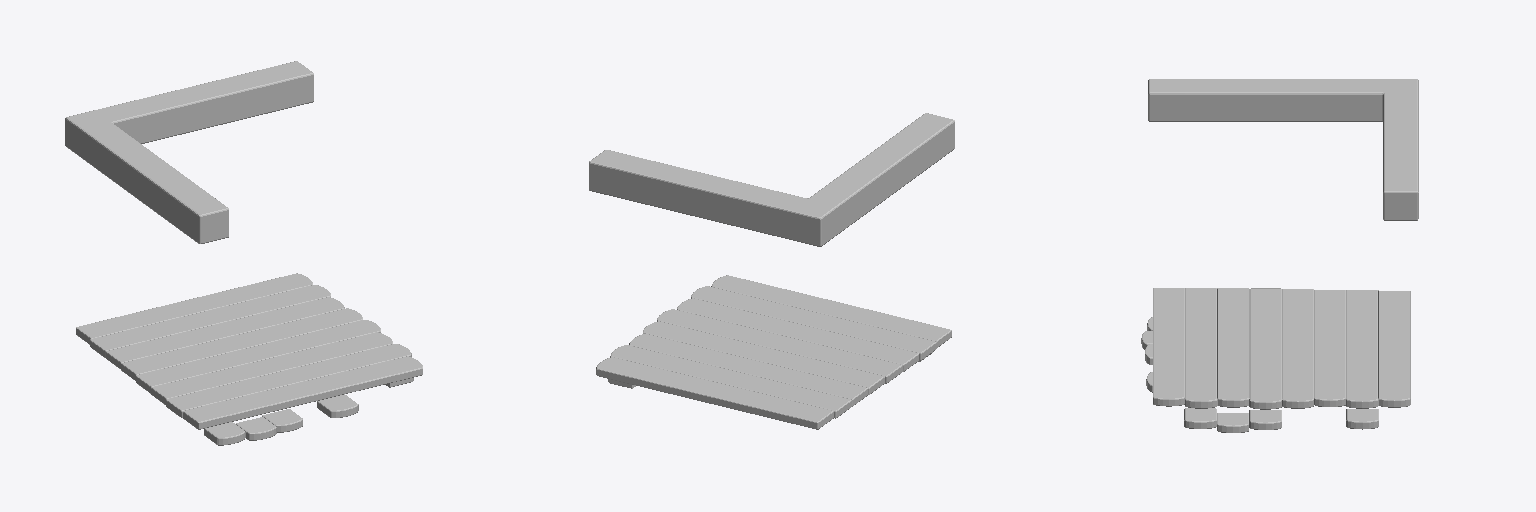
File: DarkerWoodTexture.obj
3 renders of one model, left to right at view 1: azimuth 30°, elevation 25°; view 2: azimuth 150°, elevation 25°; view 3: azimuth 270°, elevation 25°, orthographic.
Parts seen in each view (by area): view 1: Room TopWallTrim, Room UpperFloorPlanks FloorPlank8, Room UpperFloorPlanks FloorPlank7, Room UpperFloorPlanks FloorPlank5, Room UpperFloorPlanks FloorPlank4, Room UpperFloorPlanks FloorPlank6, Room FloorPlank2 UpperFloorPlanks, Room UpperFloorPlanks FloorPlank3, Room UpperFloorPlanks FloorPlank1, LowerFloorPlanks Room FloorPlank13, LowerFloorPlanks Room FloorPlank16, LowerFloorPlanks Room FloorPlank15 (+1 smaller); view 2: Room TopWallTrim, Room UpperFloorPlanks FloorPlank1, Room UpperFloorPlanks FloorPlank5, Room UpperFloorPlanks FloorPlank7, Room UpperFloorPlanks FloorPlank4, Room FloorPlank2 UpperFloorPlanks, Room UpperFloorPlanks FloorPlank6, Room UpperFloorPlanks FloorPlank8, Room UpperFloorPlanks FloorPlank3; view 3: Room TopWallTrim, Room UpperFloorPlanks FloorPlank6, Room UpperFloorPlanks FloorPlank5, Room UpperFloorPlanks FloorPlank7, Room UpperFloorPlanks FloorPlank1, Room UpperFloorPlanks FloorPlank4, Room FloorPlank2 UpperFloorPlanks, Room UpperFloorPlanks FloorPlank8, Room UpperFloorPlanks FloorPlank3, LowerFloorPlanks Room FloorPlank12, LowerFloorPlanks Room FloorPlank9, LowerFloorPlanks Room FloorPlank10 (+1 smaller).
Boxes of the visible parts, <box> form: Room TopWallTrim: <box>65,61,313,243</box>; Room UpperFloorPlanks FloorPlank8: <box>183,356,422,429</box>; Room UpperFloorPlanks FloorPlank7: <box>166,344,411,417</box>; Room UpperFloorPlanks FloorPlank5: <box>136,320,380,393</box>; Room UpperFloorPlanks FloorPlank4: <box>121,308,362,380</box>; Room UpperFloorPlanks FloorPlank6: <box>151,332,392,404</box>; Room FloorPlank2 UpperFloorPlanks: <box>90,285,330,357</box>; Room UpperFloorPlanks FloorPlank3: <box>106,297,344,368</box>; Room UpperFloorPlanks FloorPlank1: <box>76,273,312,344</box>; LowerFloorPlanks Room FloorPlank13: <box>317,394,358,417</box>; LowerFloorPlanks Room FloorPlank16: <box>204,422,245,445</box>; LowerFloorPlanks Room FloorPlank15: <box>236,417,276,440</box>; Room TopWallTrim: <box>589,113,954,246</box>; Room UpperFloorPlanks FloorPlank1: <box>596,357,833,429</box>; Room UpperFloorPlanks FloorPlank5: <box>657,309,902,383</box>; Room UpperFloorPlanks FloorPlank7: <box>691,286,936,360</box>; Room UpperFloorPlanks FloorPlank4: <box>643,321,884,394</box>; Room FloorPlank2 UpperFloorPlanks: <box>610,345,851,418</box>; Room UpperFloorPlanks FloorPlank6: <box>677,298,918,371</box>; Room UpperFloorPlanks FloorPlank8: <box>711,275,951,347</box>; Room UpperFloorPlanks FloorPlank3: <box>629,334,867,406</box>; Room TopWallTrim: <box>1148,79,1418,220</box>; Room UpperFloorPlanks FloorPlank6: <box>1217,288,1249,407</box>; Room UpperFloorPlanks FloorPlank5: <box>1249,288,1281,409</box>; Room UpperFloorPlanks FloorPlank7: <box>1185,288,1217,408</box>; Room UpperFloorPlanks FloorPlank1: <box>1378,291,1410,407</box>; Room UpperFloorPlanks FloorPlank4: <box>1282,289,1313,408</box>; Room FloorPlank2 UpperFloorPlanks: <box>1346,290,1378,408</box>; Room UpperFloorPlanks FloorPlank8: <box>1153,288,1184,406</box>; Room UpperFloorPlanks FloorPlank3: <box>1314,290,1345,406</box>; LowerFloorPlanks Room FloorPlank12: <box>1184,408,1216,428</box>; LowerFloorPlanks Room FloorPlank9: <box>1346,409,1378,429</box>; LowerFloorPlanks Room FloorPlank10: <box>1249,410,1281,429</box>.
Size of the model in its own units: 3.54 by 3.27 by 3.48.